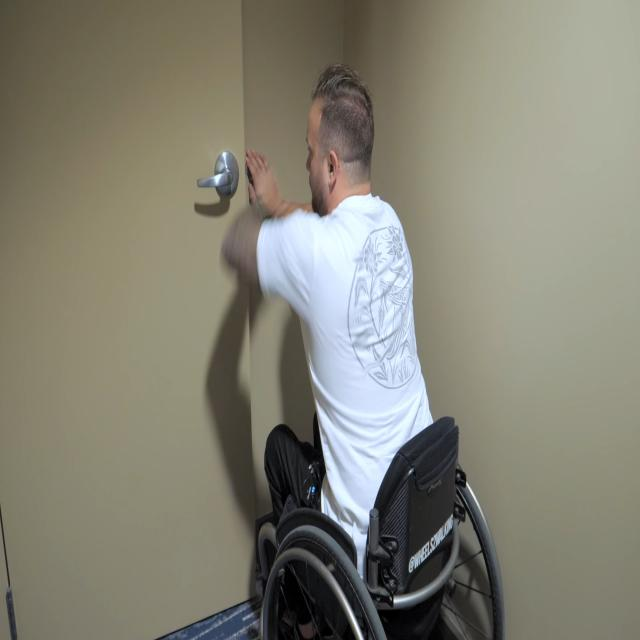wheelchairs: (252, 412, 507, 640)
